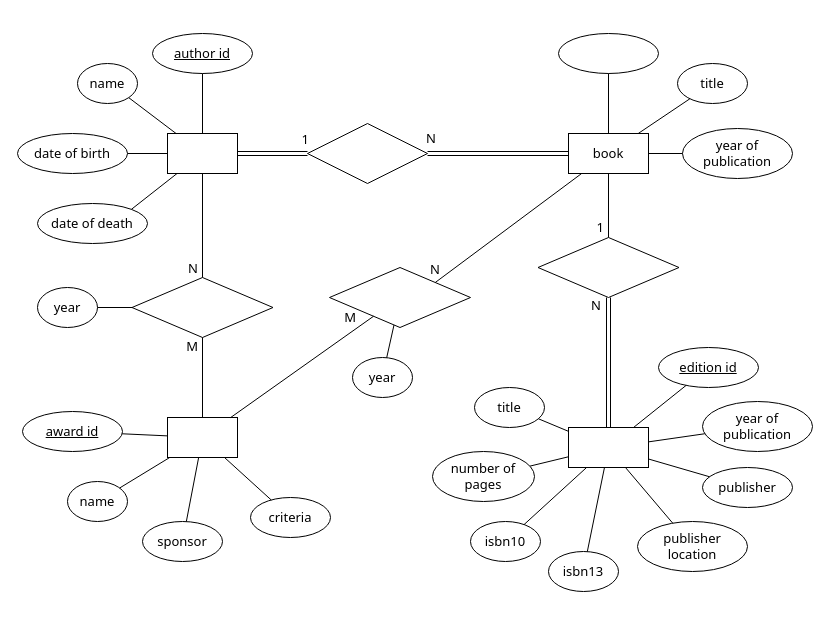
Some shapes in this 830 by 624 pixel diagram are drawn without their labels. Here are the shapes that lost their labels. From the top down, the centre of each, then its label:
the point at 608,53: book id
the point at 202,153: author
the point at 367,153: writes
the point at 608,267: is published as
the point at 202,307: is awarded to author
the point at 399,297: is awarded to book
the point at 202,437: award
the point at 608,447: edition
